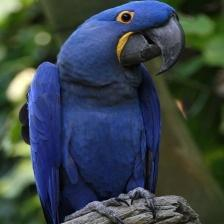bird: (19, 0, 200, 223)
